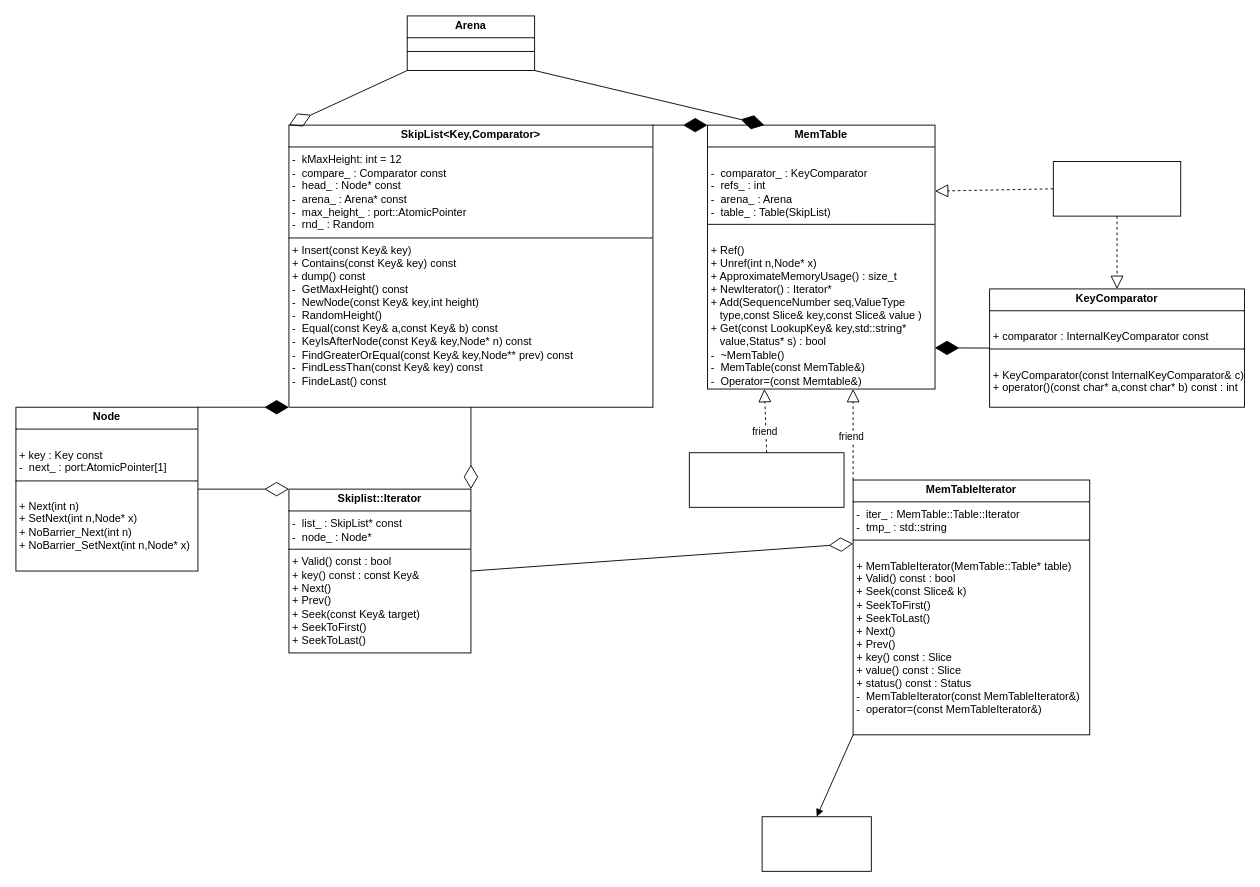
The diagram is 1260 pixels wide and 887 high, and some of its shapes have lost their labels. The box of each missing label's shape, as (x1, y1, x2, y2) in pixels:
InternalKeyComparator: (1052, 161, 1181, 216)
Iterator: (761, 816, 871, 871)
MemTableBackwardIterator: (688, 452, 844, 507)
